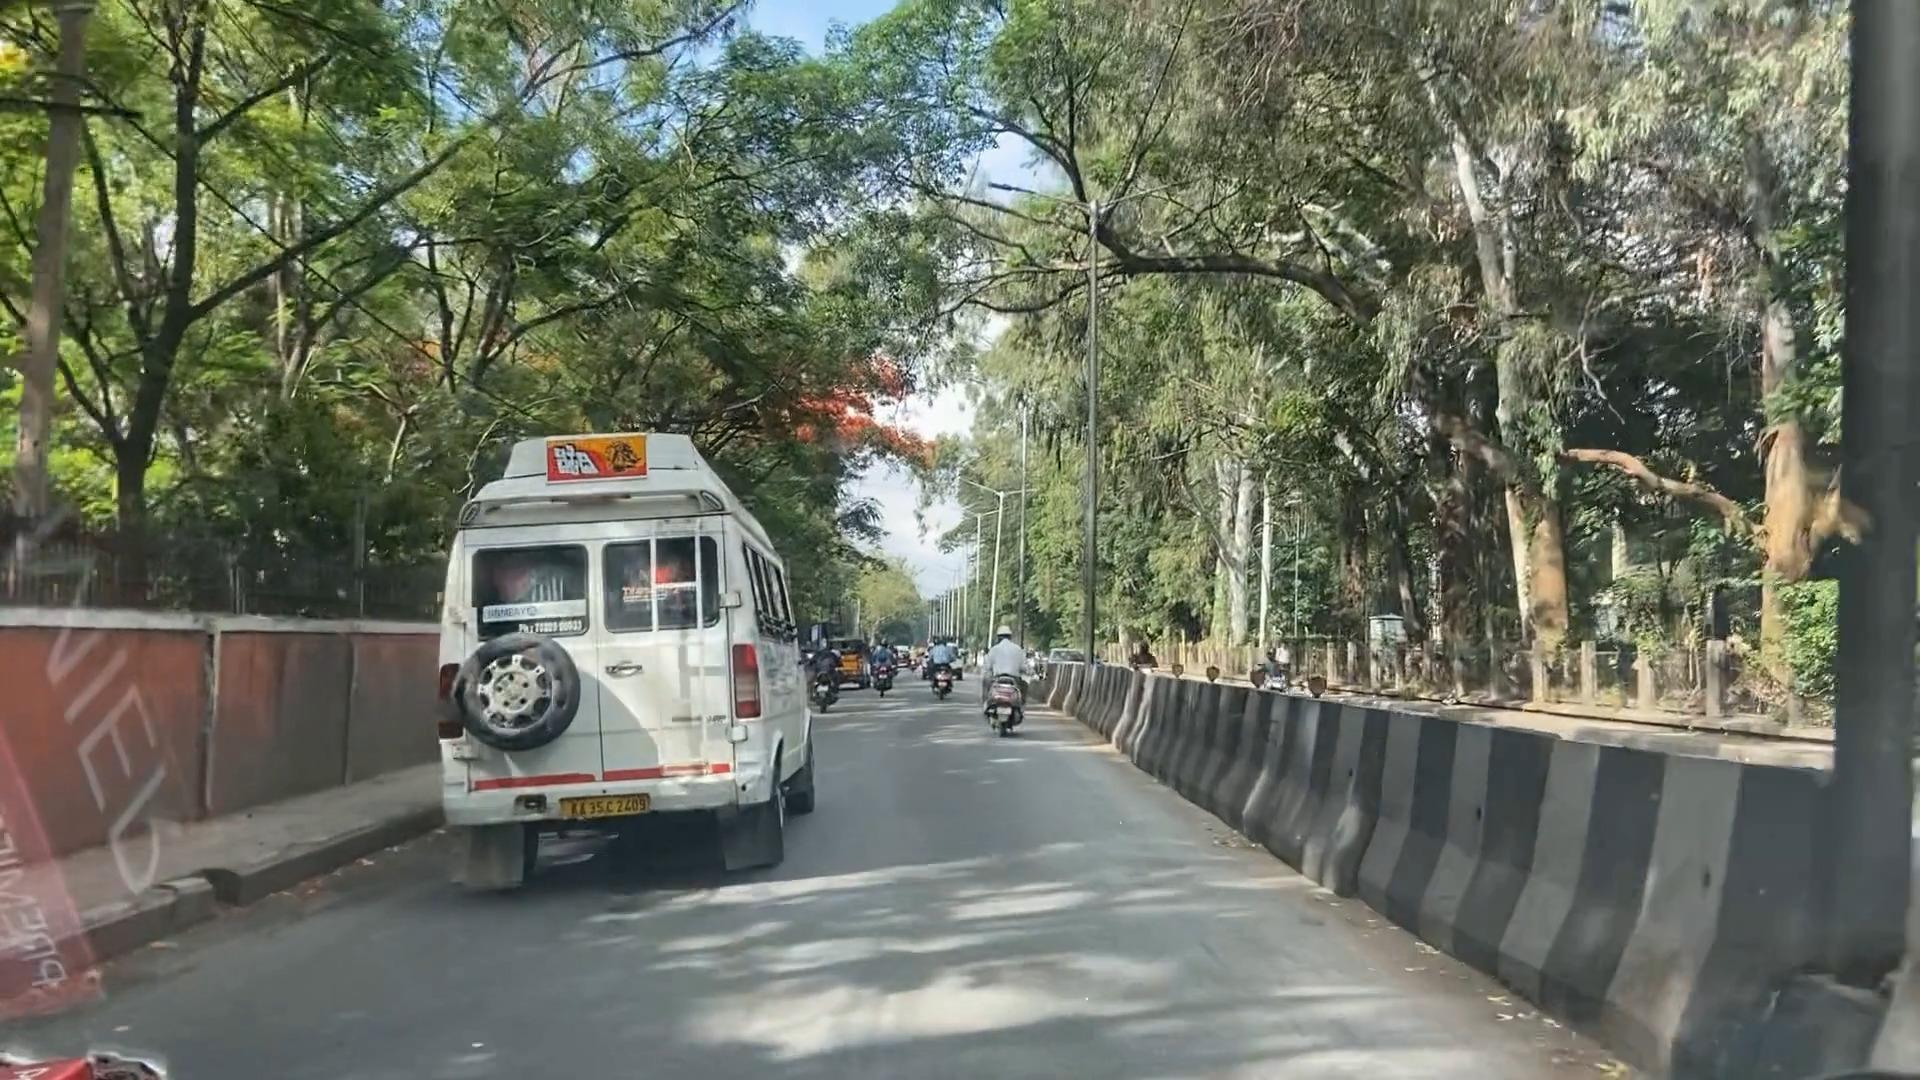HMV: (373, 388, 815, 878)
